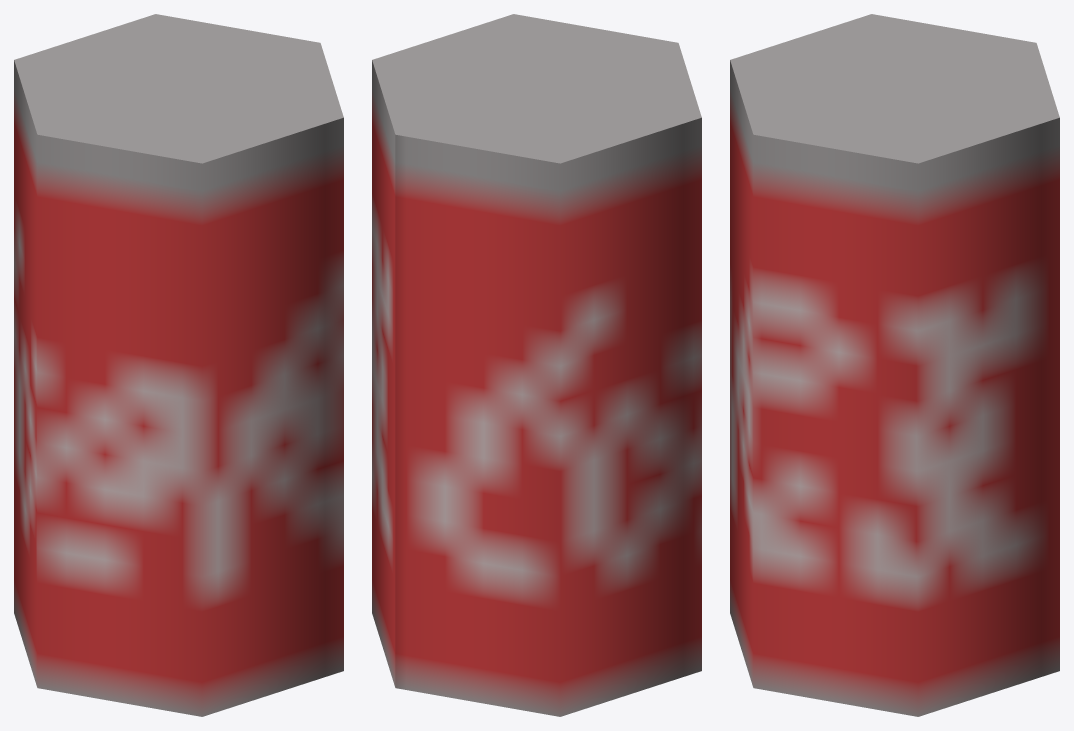
File: Pixel_Misc_S_0045.fbx
3 renders of one model, left to right at view 1: azimuth 30°, elevation 25°; view 2: azimuth 150°, elevation 25°; view 3: azimuth 270°, elevation 25°, orthographic.
Visible parts, largest first — view 1: Pixel_Misc_S_0045; view 2: Pixel_Misc_S_0045; view 3: Pixel_Misc_S_0045.
Boxes of the visible parts, bbox=[...] form: Pixel_Misc_S_0045: bbox=[14, 14, 343, 716]; Pixel_Misc_S_0045: bbox=[372, 14, 701, 716]; Pixel_Misc_S_0045: bbox=[730, 14, 1059, 716].
Bounding box in the file's own units: 13.21 × 22.8 × 12.31.
